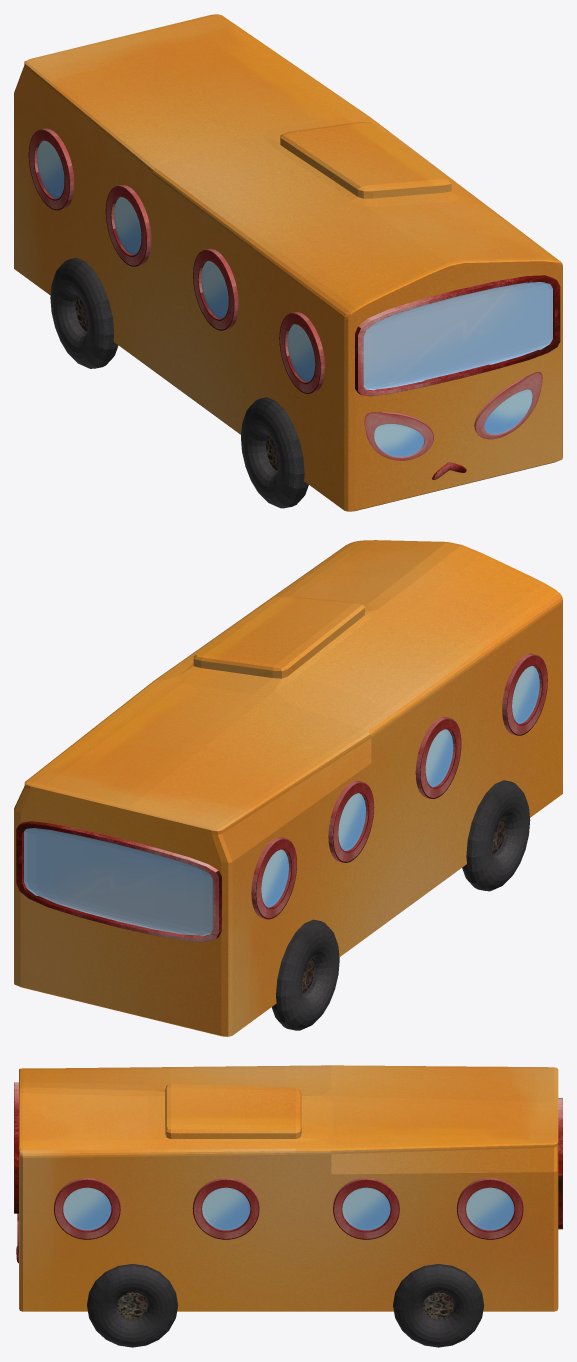
Rendered from camion.obj.
The picture shows the model from 3 angles, top to bottom: view 1: azimuth 30°, elevation 25°; view 2: azimuth 150°, elevation 25°; view 3: azimuth 270°, elevation 25°; orthographic projection. The views are drawn at different scales.
Parts seen in each view (by area): view 1: Camion_CamionpolySurface17, Camion_CamionpolySurface1, Camion_polySurface16, Camion_polySurface29, Camion_CamionpolySurface25, Camion_CamionpolySurface23, Camion_CamionpolySurface21, Camion_CamionpolySurface19, Camion_CamionpolySurface7, Camion_CamionpolySurface11; view 2: Camion_CamionpolySurface17, Camion_CamionpolySurface26, Camion_polySurface16, Camion_polySurface29, Camion_CamionpolySurface21, Camion_CamionpolySurface19, Camion_CamionpolySurface25, Camion_CamionpolySurface23; view 3: Camion_CamionpolySurface17, Camion_polySurface27, Camion_polySurface28, Camion_CamionpolySurface24, Camion_CamionpolySurface20, Camion_polySurface12Camion, Camion_CamionpolySurface22, Camion_CamionpolySurface26, Camion_CamionpolySurface1.
Boxes of the visible parts, left/top/right/bottom form: Camion_CamionpolySurface17: left=14, top=14, right=562, bottom=511; Camion_CamionpolySurface1: left=355, top=275, right=560, bottom=396; Camion_polySurface16: left=241, top=397, right=308, bottom=508; Camion_polySurface29: left=50, top=258, right=118, bottom=368; Camion_CamionpolySurface25: left=28, top=128, right=74, bottom=210; Camion_CamionpolySurface23: left=105, top=185, right=151, bottom=266; Camion_CamionpolySurface21: left=193, top=248, right=238, bottom=330; Camion_CamionpolySurface19: left=279, top=312, right=325, bottom=393; Camion_CamionpolySurface7: left=364, top=412, right=433, bottom=460; Camion_CamionpolySurface11: left=474, top=371, right=542, bottom=439; Camion_CamionpolySurface17: left=14, top=540, right=562, bottom=1036; Camion_CamionpolySurface26: left=16, top=821, right=221, bottom=941; Camion_polySurface16: left=462, top=780, right=530, bottom=891; Camion_polySurface29: left=271, top=919, right=339, bottom=1030; Camion_CamionpolySurface21: left=415, top=717, right=461, bottom=798; Camion_CamionpolySurface19: left=502, top=653, right=547, bottom=735; Camion_CamionpolySurface25: left=251, top=837, right=296, bottom=919; Camion_CamionpolySurface23: left=328, top=781, right=374, bottom=862; Camion_CamionpolySurface17: left=19, top=1065, right=558, bottom=1311; Camion_polySurface27: left=87, top=1264, right=178, bottom=1347; Camion_polySurface28: left=393, top=1264, right=484, bottom=1347; Camion_CamionpolySurface24: left=456, top=1178, right=523, bottom=1239; Camion_CamionpolySurface20: left=192, top=1178, right=259, bottom=1239; Camion_polySurface12Camion: left=54, top=1178, right=120, bottom=1239; Camion_CamionpolySurface22: left=333, top=1178, right=399, bottom=1239; Camion_CamionpolySurface26: left=558, top=1098, right=562, bottom=1229; Camion_CamionpolySurface1: left=14, top=1082, right=18, bottom=1213.
Size of the model in its own units: 6.73 by 7.17 by 16.24.
Materials: 4 (4 with a texture image).
